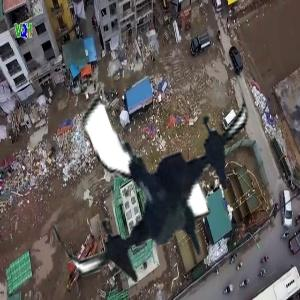drone: (43, 70, 271, 298)
